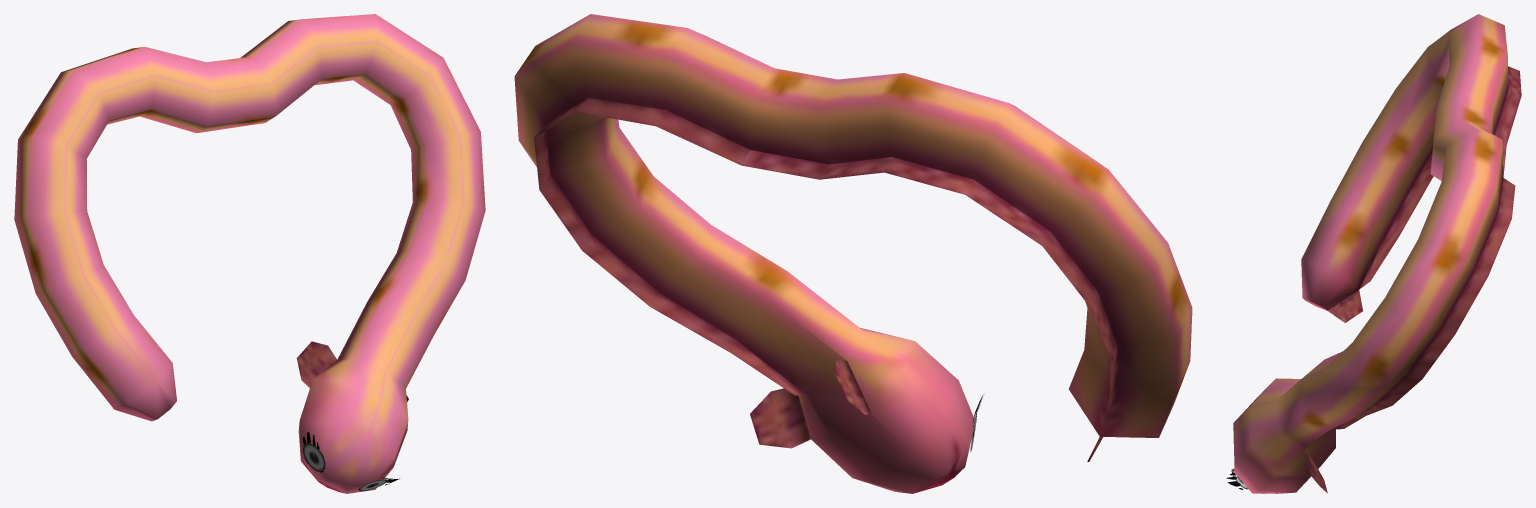
The model's file is genus_14.glb.
3 views of the same model, side by side, from view 1: azimuth 30°, elevation 25°; view 2: azimuth 150°, elevation 25°; view 3: azimuth 270°, elevation 25° (orthographic). The views are drawn at different scales.
Parts seen in each view (by area): view 1: fish_0; view 2: fish_0; view 3: fish_0.
Boxes of the visible parts, bbox=[...] form: fish_0: bbox=[14, 14, 485, 493]; fish_0: bbox=[514, 14, 1192, 493]; fish_0: bbox=[1226, 14, 1521, 493].
Size of the model in its own units: 0.6567 by 0.5483 by 0.3767.
Materials: 3 (3 with a texture image).
